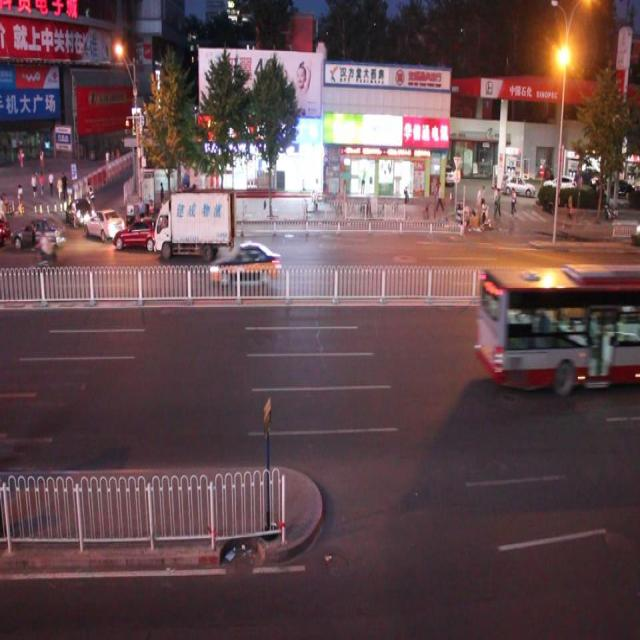bus: (154, 191, 235, 257)
car: (207, 242, 281, 283), (166, 185, 223, 232), (11, 214, 65, 254), (114, 216, 172, 250), (84, 207, 125, 242), (66, 195, 96, 228)
van: (477, 268, 640, 384)
